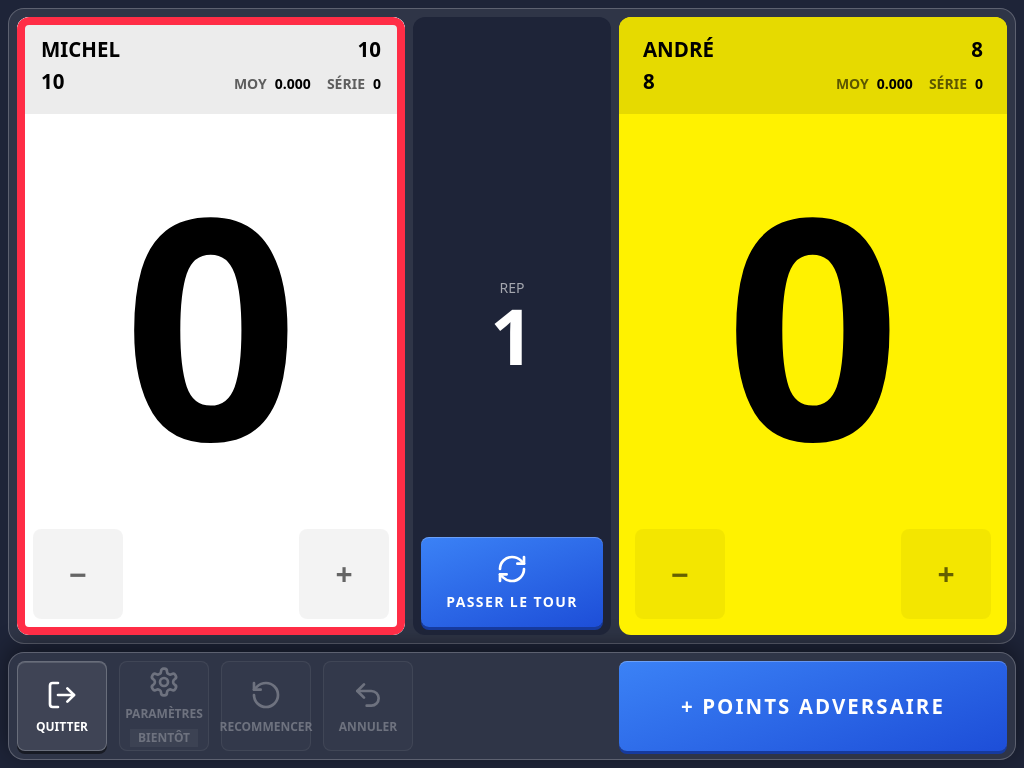
Test: GameView — fin de partie › asks before leaving when points were only added by a correction
The image size is (1024, 768).
Press the mouse on the button with test id "score-plus": (344, 574) x1=299 y1=529 x2=389 y2=619
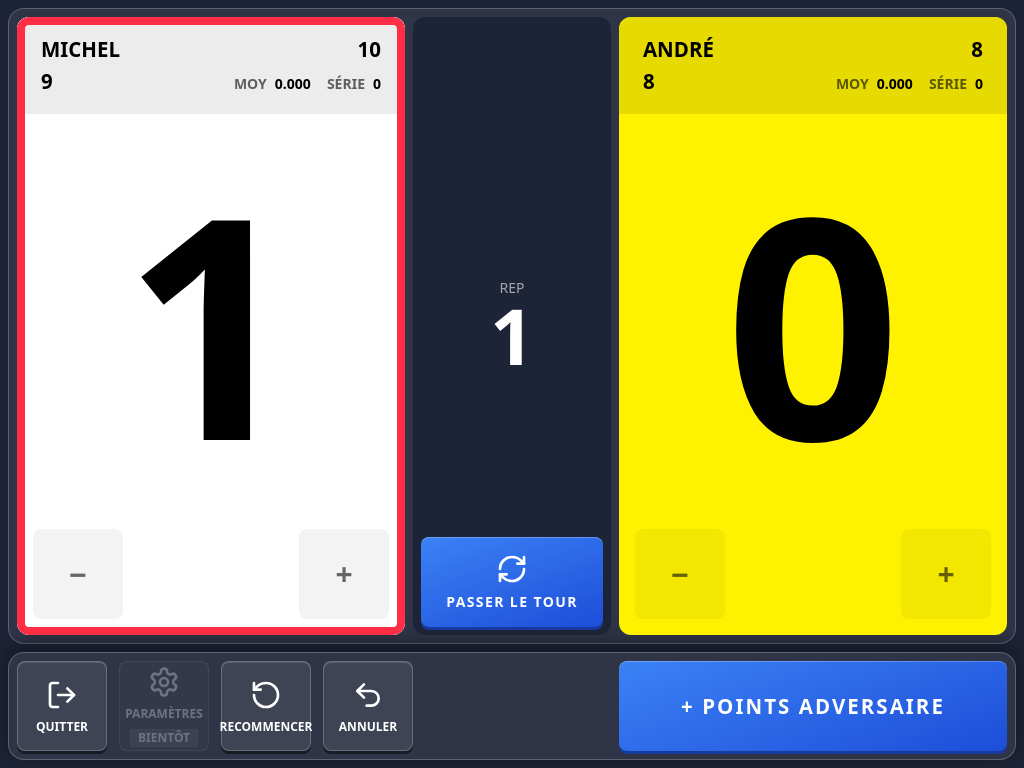
Press the mouse on the button with test id "exit-button": (62, 706) x1=17 y1=661 x2=107 y2=751
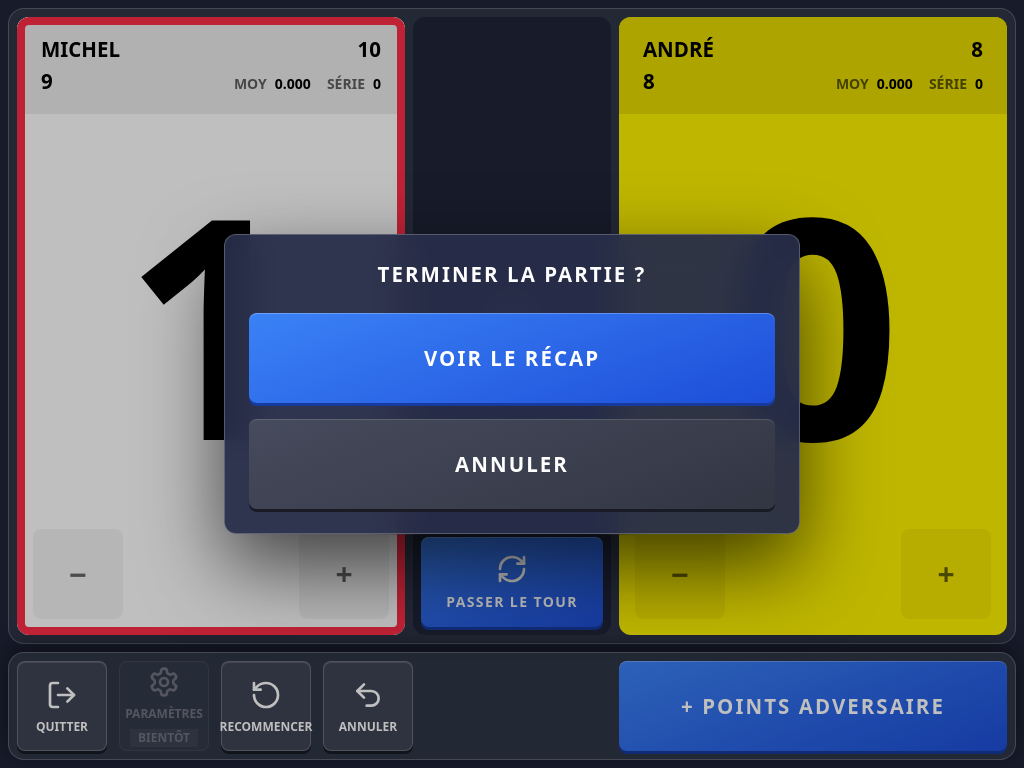
Check: the heading with test id "prompt-title" reads "TERMINER LA PARTIE ?", box x1=378 y1=260 x2=646 y2=288
